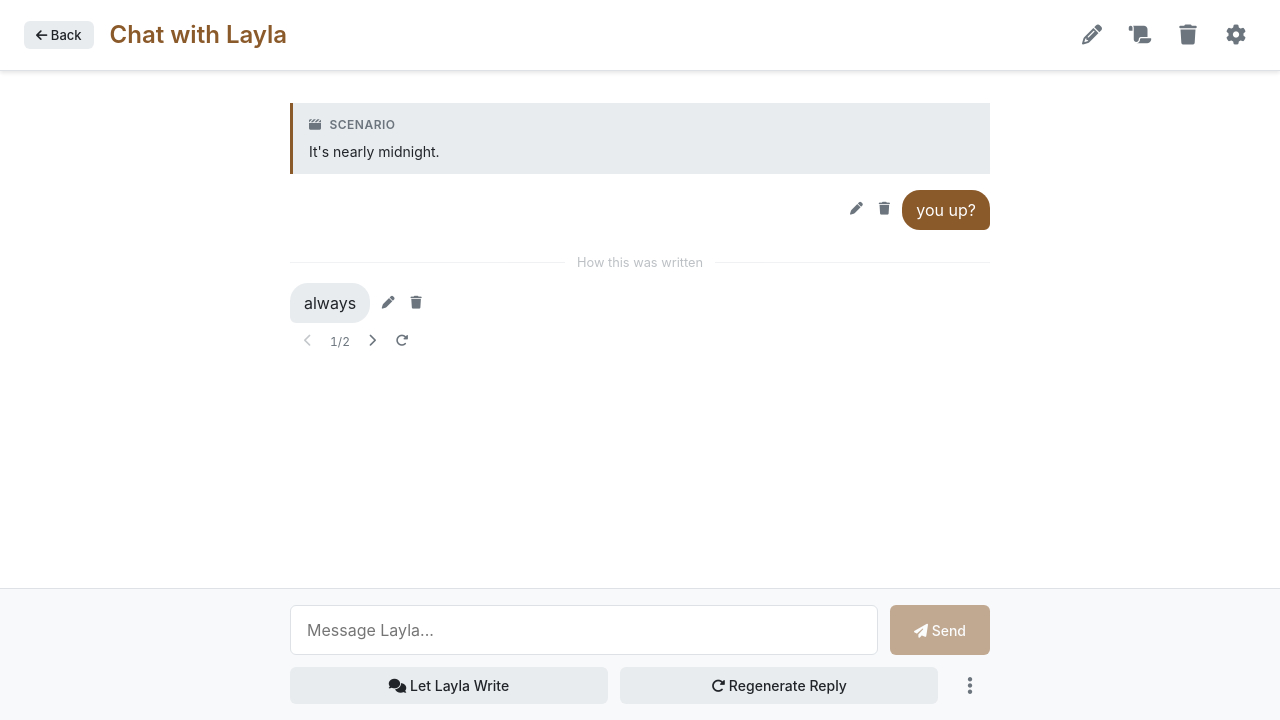
Test: ChatView › switches between versions of a reply and shows its reasoning
The width and height of the screenshot is (1280, 720).
Expected: the text with class "swipe-count" reads "1/2", [330, 334, 350, 349]
Click the button with class "seam-toggle" at {"x": 640, "y": 263}, box [290, 248, 990, 278]
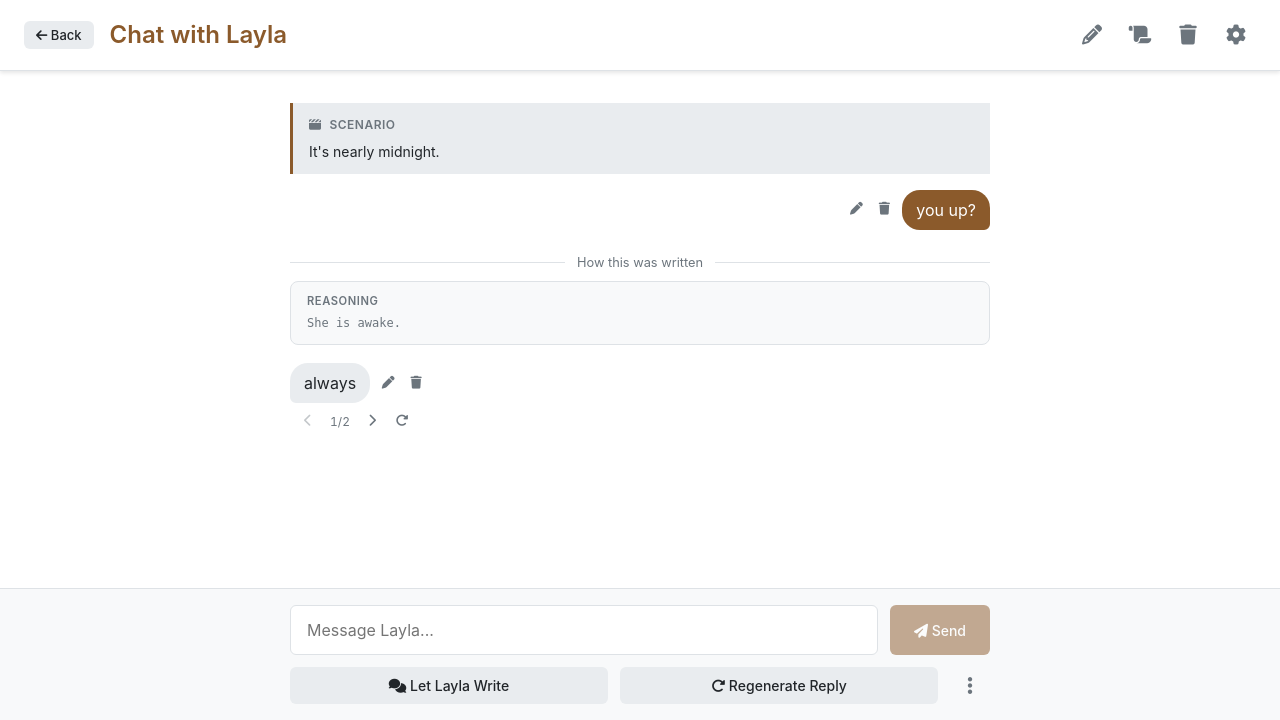
Expected: the text with class "block-text" reads "She is awake.", [307, 316, 401, 330]
Click the button named "Next version" at {"x": 372, "y": 421}, box [358, 407, 386, 435]
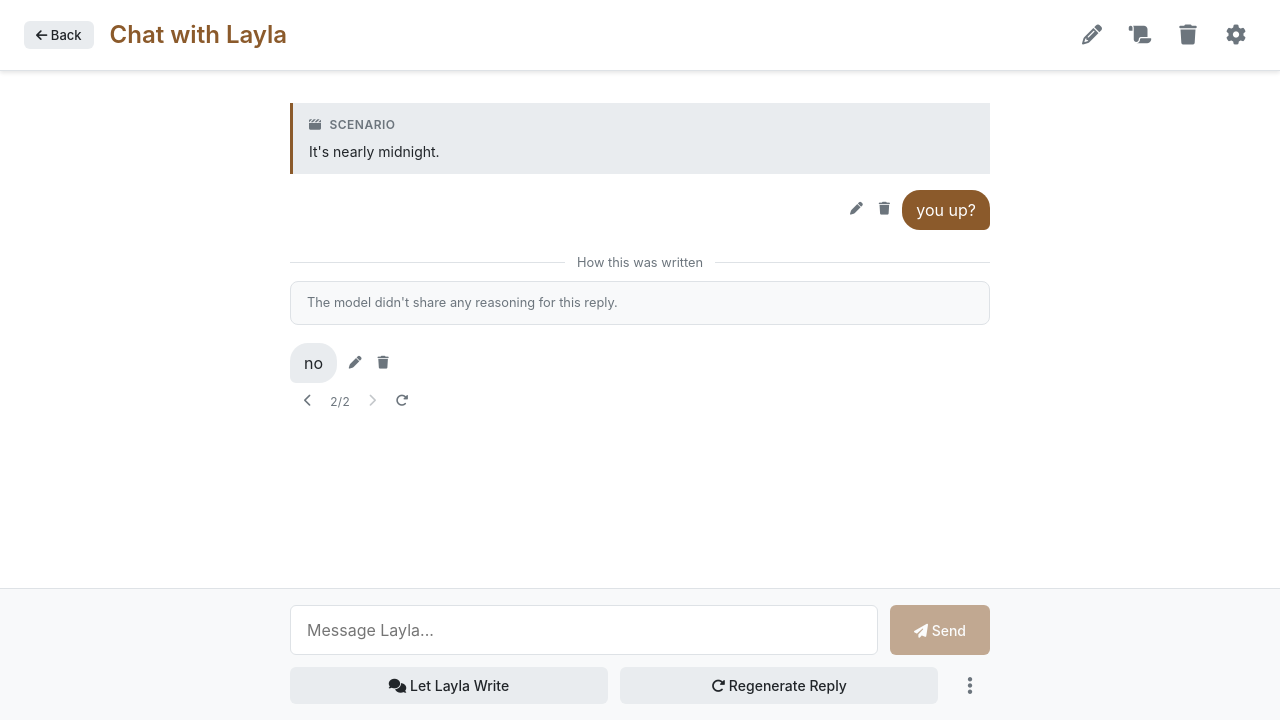
Expected: the text with class "swipe-count" reads "2/2", [330, 394, 350, 409]
Expected: the text with class "bubble" reads "no", [304, 353, 323, 373]
Expected: the element with class "seam-panel" shows "didn't share any reasoning", [307, 296, 618, 310]
